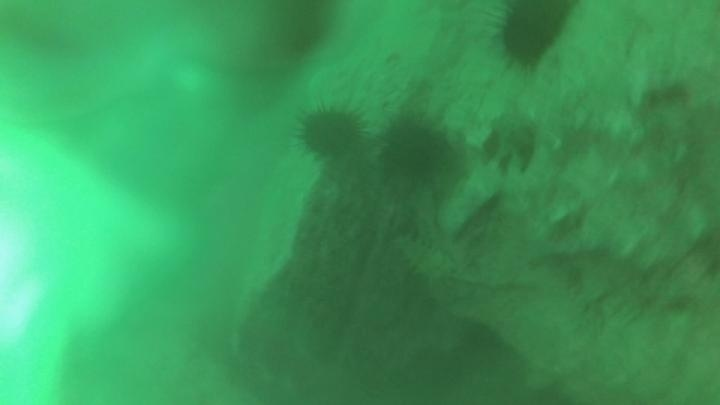echinus: (492, 1, 576, 71), (377, 111, 452, 186), (261, 2, 338, 62), (293, 101, 368, 162)
holothurian: (389, 232, 462, 291)
